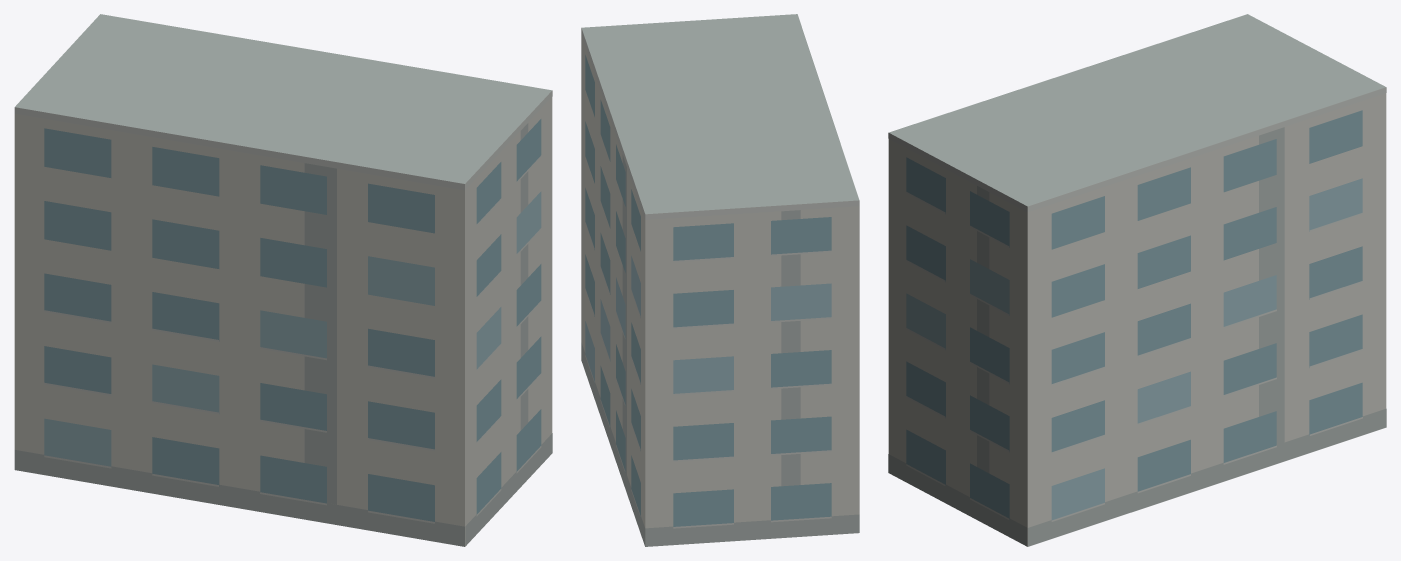
Rendered from survey-upis-32767873.glb.
3 views of the same model, side by side, from view 1: azimuth 30°, elevation 25°; view 2: azimuth 150°, elevation 25°; view 3: azimuth 270°, elevation 25° (orthographic). The views are drawn at different scales.
Parts seen in each view (by area): view 1: survey-upis-32767873.tmp; view 2: survey-upis-32767873.tmp; view 3: survey-upis-32767873.tmp.
Boxes of the visible parts, <box> form: survey-upis-32767873.tmp: <box>14,14,552,546</box>; survey-upis-32767873.tmp: <box>581,14,859,546</box>; survey-upis-32767873.tmp: <box>888,14,1386,546</box>.
Size of the model in its own units: 16.75 by 13.8 by 18.3.
